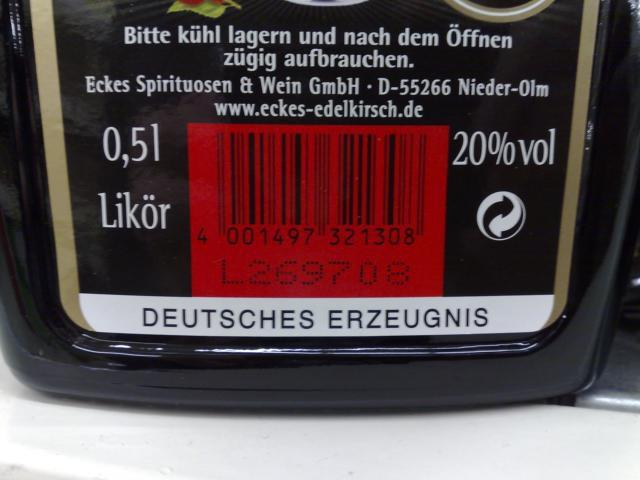Barcode: (187, 122, 443, 254)
